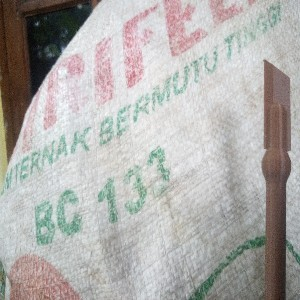cutter: (261, 57, 293, 300)
